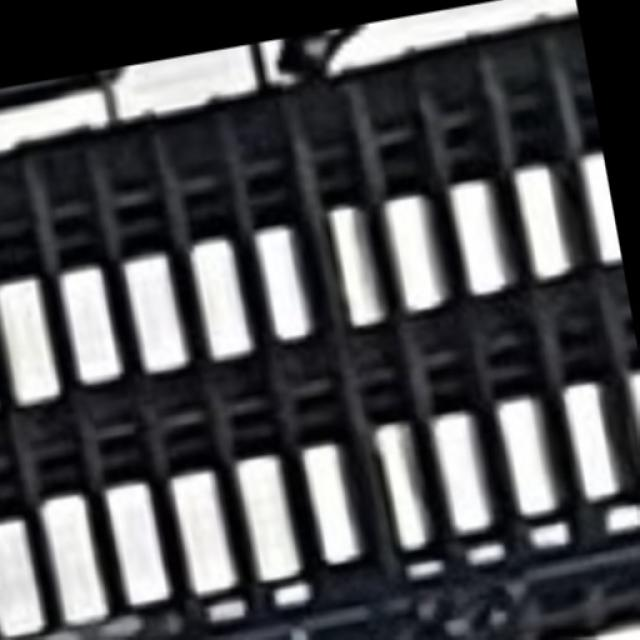igps: (407, 16, 593, 602), (343, 22, 522, 614), (75, 109, 265, 640), (286, 39, 458, 618), (461, 18, 639, 568), (218, 77, 397, 622), (8, 120, 194, 640), (149, 92, 325, 640), (0, 138, 125, 640), (532, 10, 638, 448), (0, 506, 59, 638)
